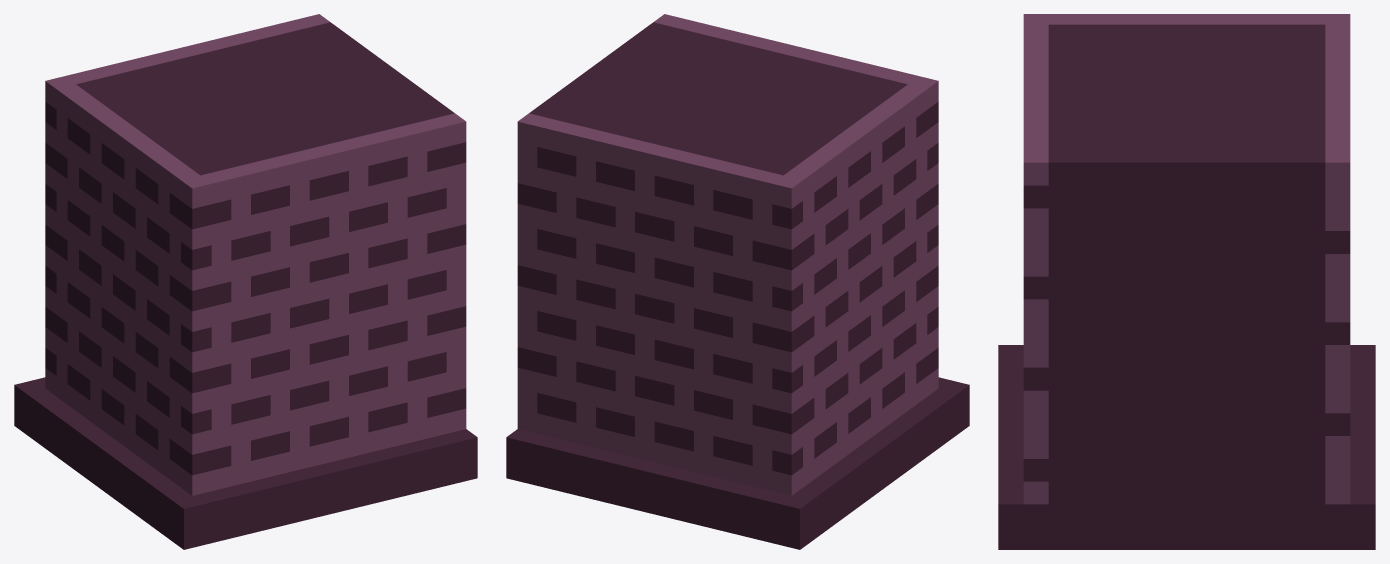
The model's file is dungeon_c_b_inner_wall_ending.obj.
The picture shows the model from 3 angles, left to right: view 1: azimuth 30°, elevation 25°; view 2: azimuth 150°, elevation 25°; view 3: azimuth 270°, elevation 25°; orthographic projection. The views are drawn at different scales.
Bounding box in the file's own units: 1.5 × 1.7 × 1.5.
Materials: 1 (1 with a texture image).
